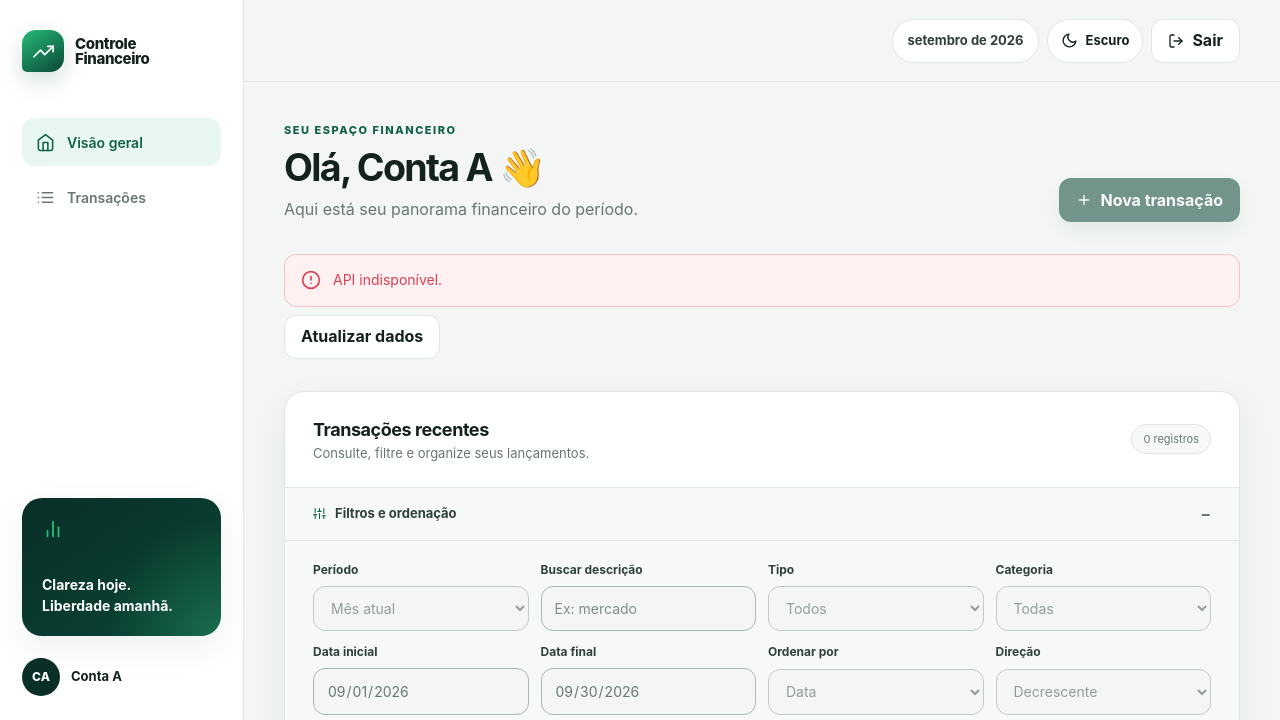
Test: falha ao listar não encerra sessão válida nem mostra falso vazio; permite recuperar
Check: the message shows "API indisponível", box [333,271,442,288]
Check: the button "Sair" is shown, box [1151,18,1240,62]
Click the button "Atualizar dados": [362, 337] box [284,315,440,359]
(page scrolled)
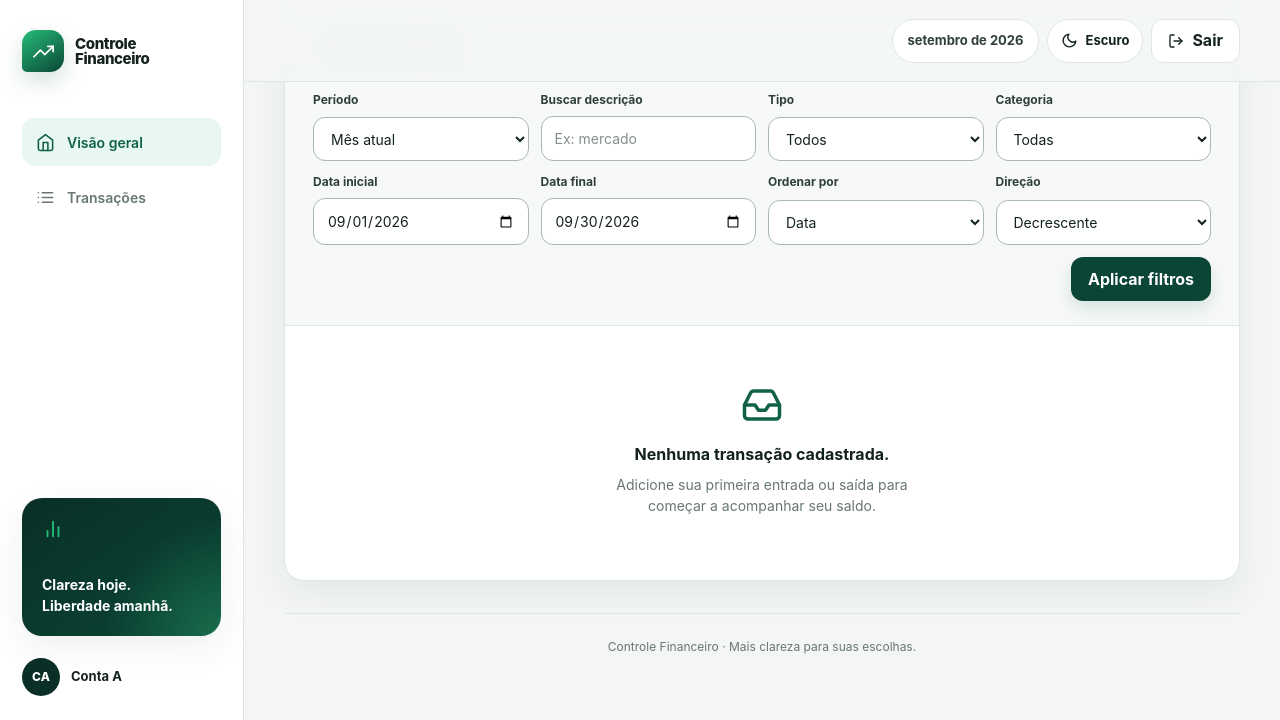
Check: the heading "Nenhuma transação cadastrada." is shown, box [635,442,889,466]
Check: the message "API indisponível." is gone
